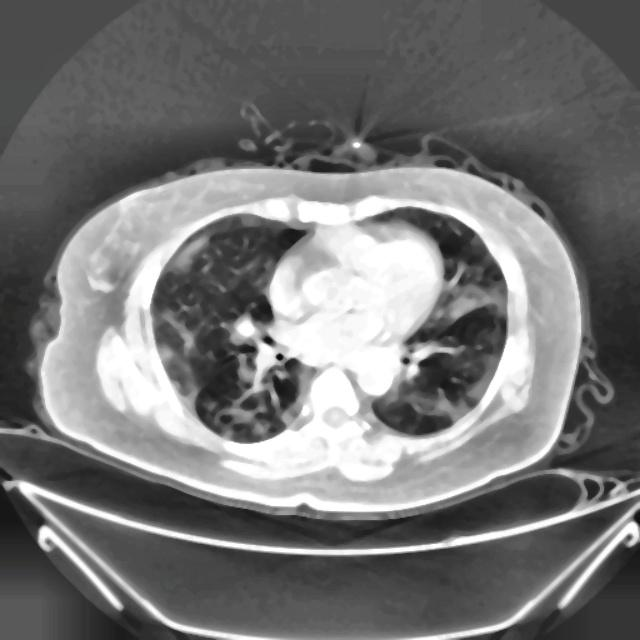covid: (32, 139, 587, 521)
